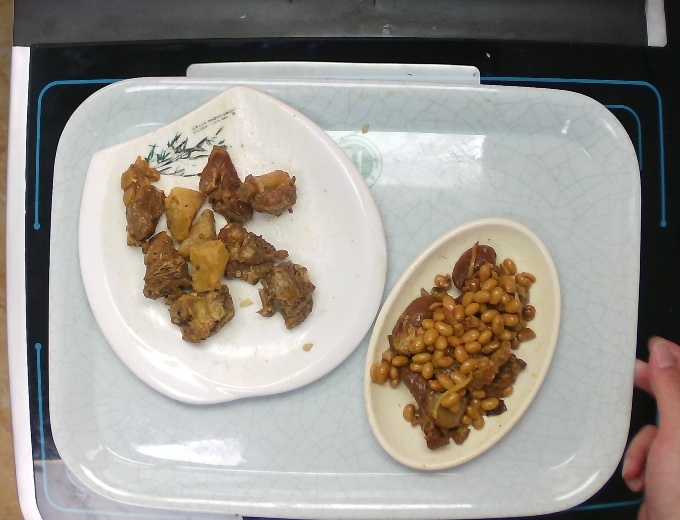JYsf-Mian_Pan: (73, 83, 391, 409)
JYsf-Tuo_Yuan_Wan: (353, 209, 566, 481)
